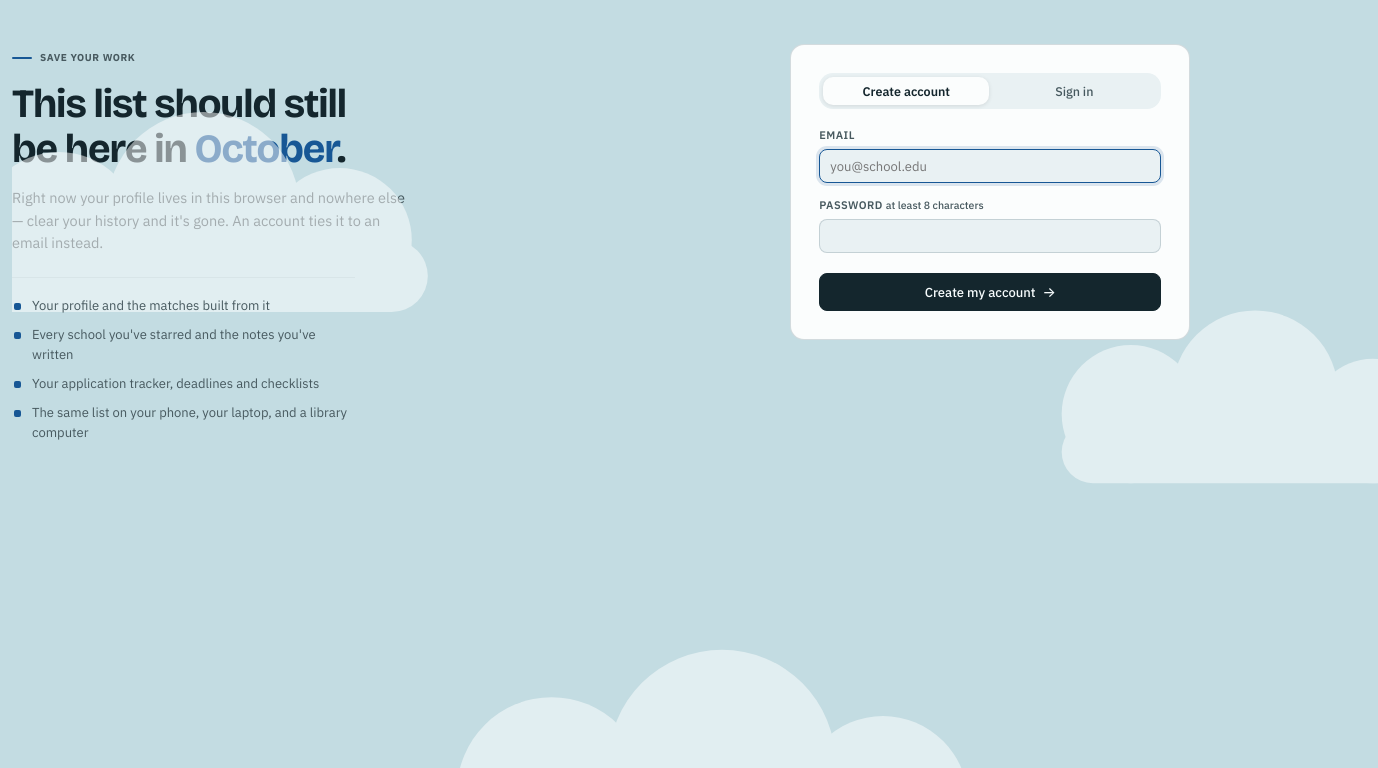
Scenario: signing up › shows the server's message when the address already has an account
Type "jordan@example.com" into the field labelled "Email" at point(990, 166), box [819,149,1161,183]
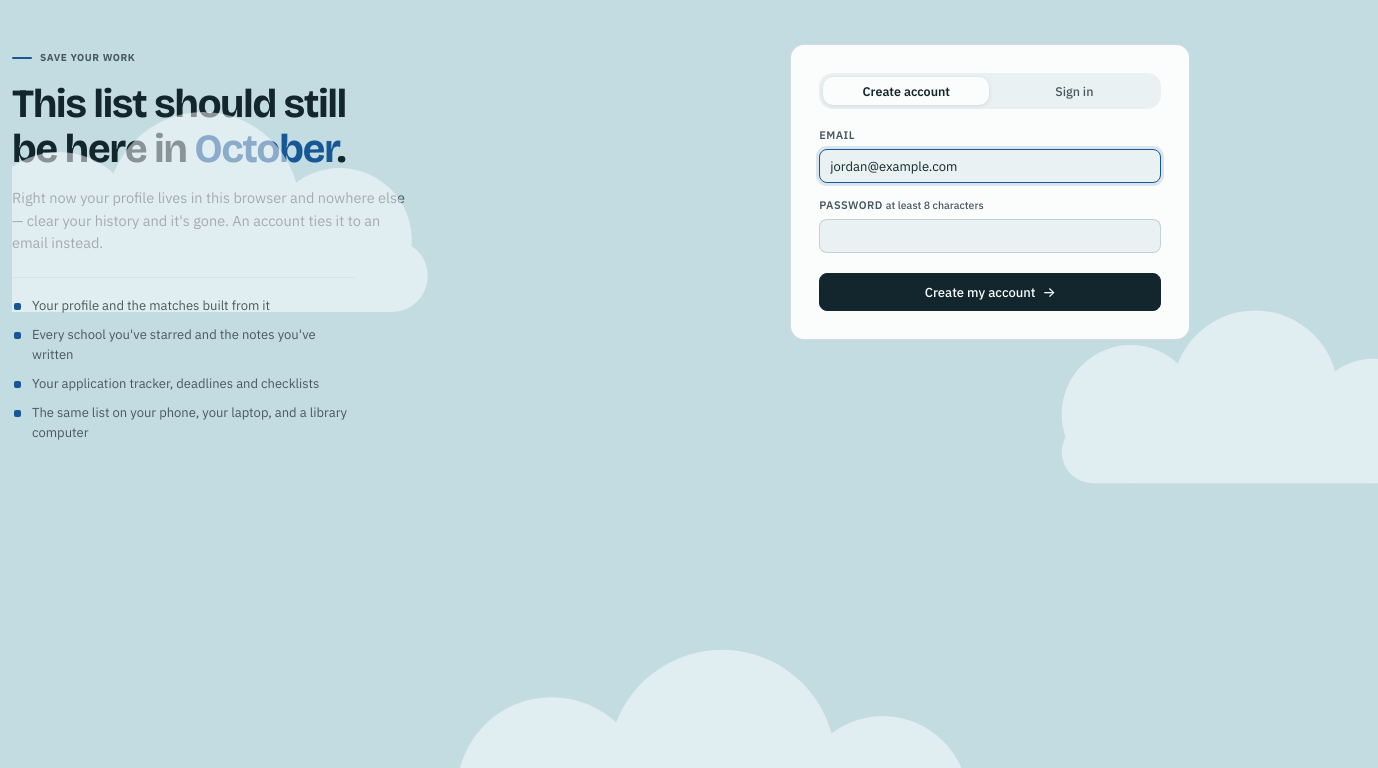
Type "correct horse battery" into the password field labelled "Password at least 8 characters" at point(990, 236), box [819,219,1161,253]
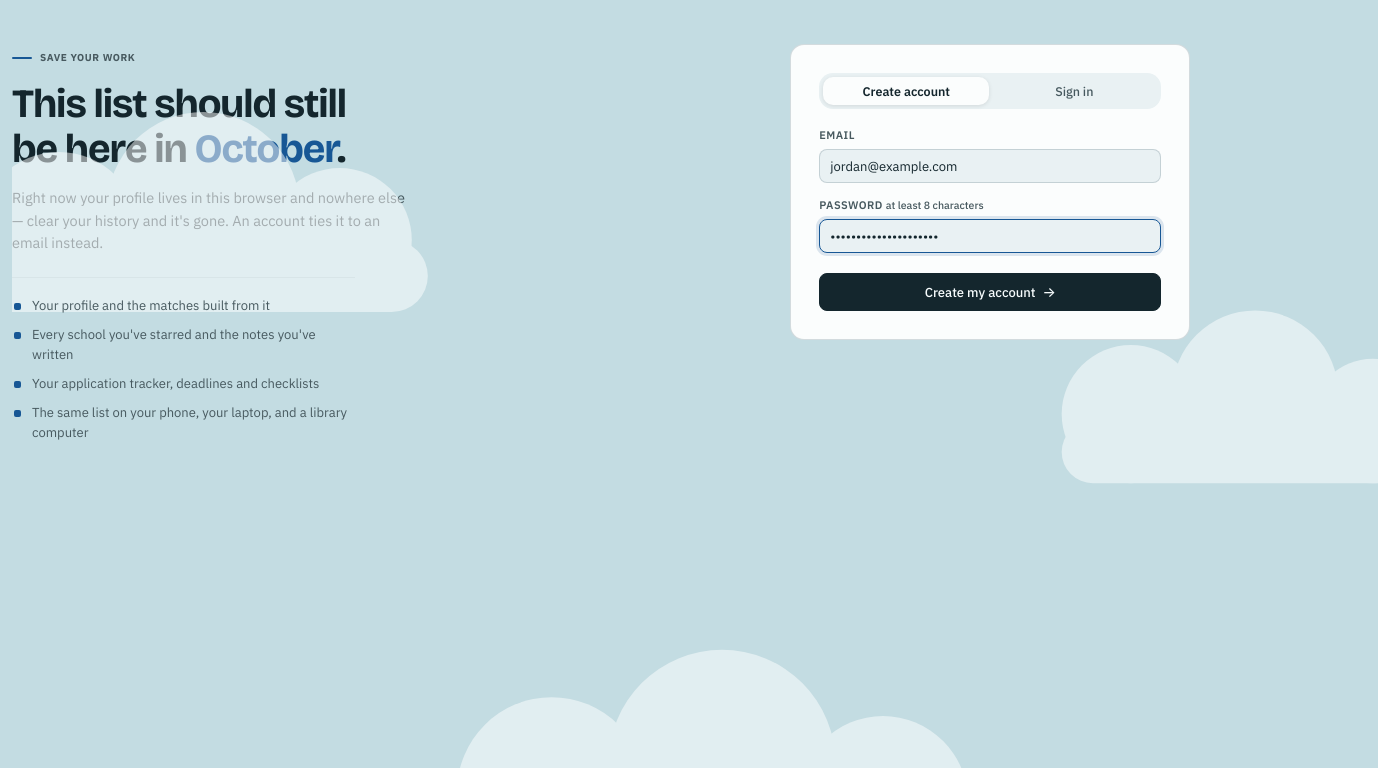
Click the button "Create my account →" at point(990, 292), box [819,273,1161,311]
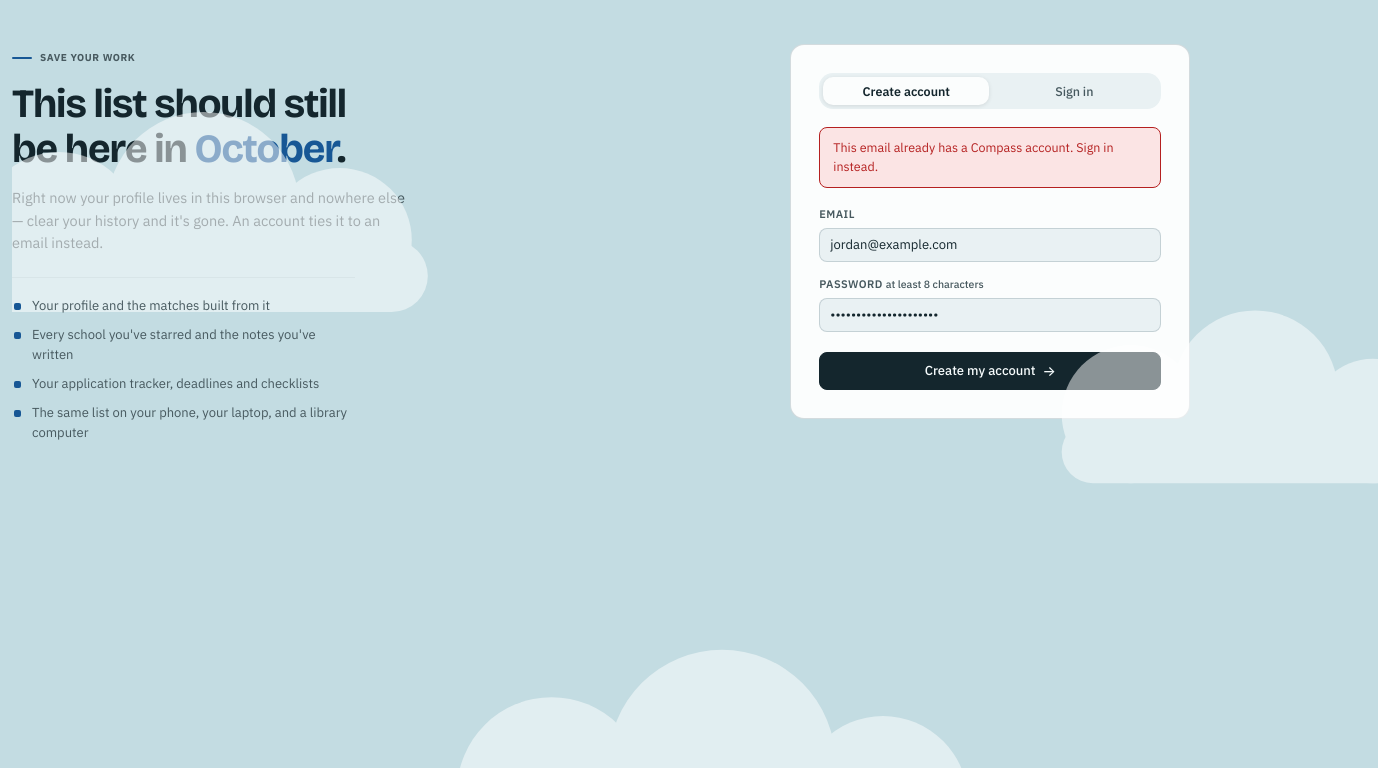
Expected: the message shows "Sign in instead", [833,139,1114,174]
